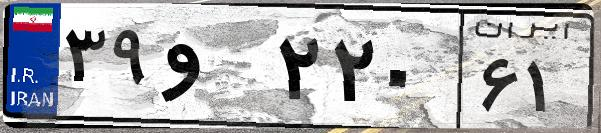0: (385, 28, 445, 110)
1: (525, 38, 570, 115)
2: (270, 28, 330, 110), (330, 28, 385, 110)
3: (57, 26, 110, 100)
6: (475, 38, 525, 113)
9: (110, 28, 158, 98)
و: (158, 20, 270, 120)
